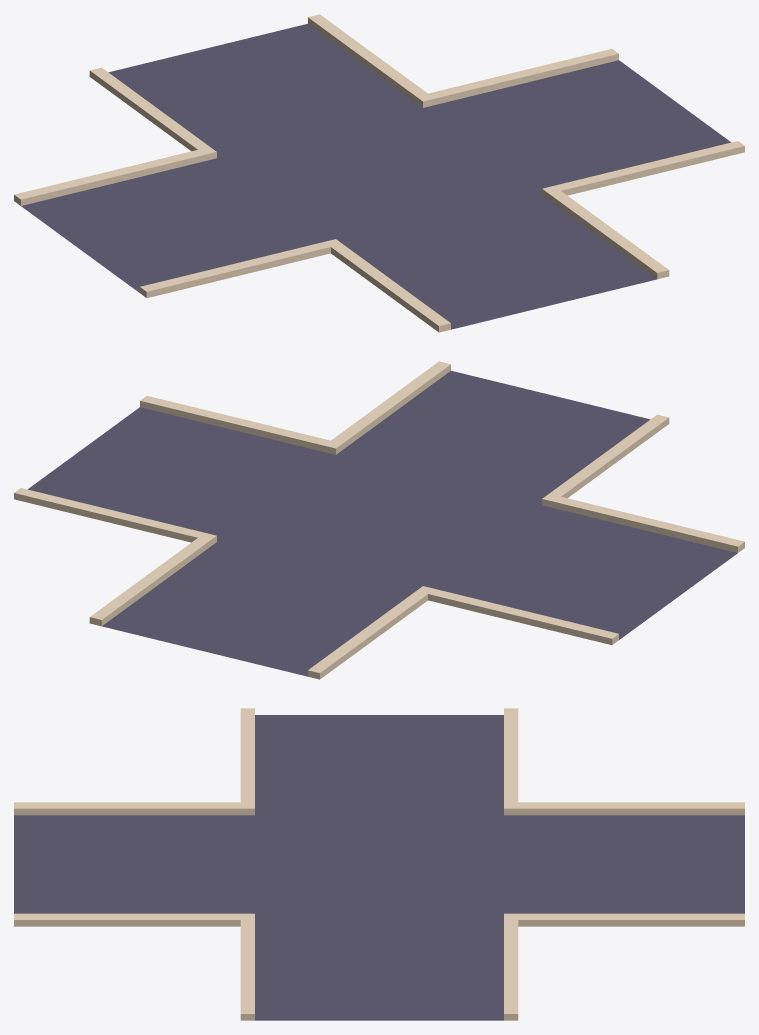
File: Way_Mid_2.fbx
3 views of the same model, one above another, from view 1: azimuth 30°, elevation 25°; view 2: azimuth 150°, elevation 25°; view 3: azimuth 270°, elevation 25° (orthographic). The views are drawn at different scales.
Parts seen in each view (by area): view 1: Way_Mid_2; view 2: Way_Mid_2; view 3: Way_Mid_2.
Part boxes in pixels (left/top/right/bottom): Way_Mid_2: left=14, top=14, right=744, bottom=332; Way_Mid_2: left=14, top=361, right=744, bottom=679; Way_Mid_2: left=14, top=708, right=744, bottom=1020.
Size of the model in its own units: 1500 by 15.4 by 1517.
